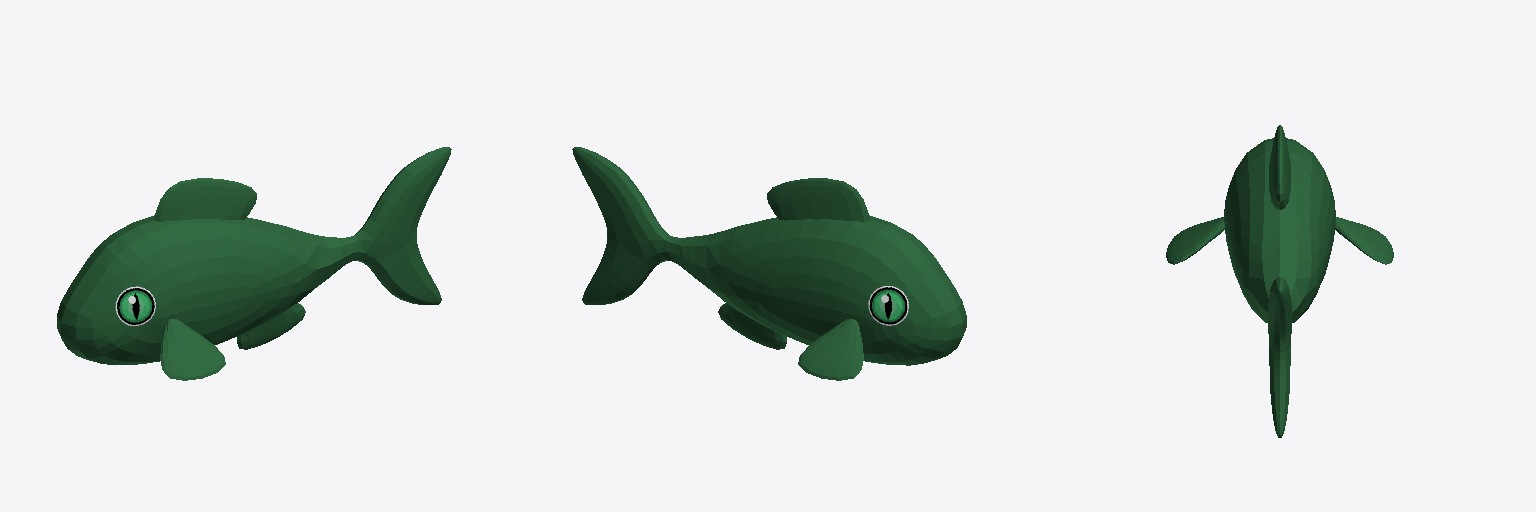
3 views of the same model, side by side, from view 1: azimuth 30°, elevation 25°; view 2: azimuth 150°, elevation 25°; view 3: azimuth 270°, elevation 25° (orthographic).
Visible parts, largest first — view 1: obj1; view 2: obj1; view 3: obj1.
Part boxes in pixels (x1,y1,x2,y2): obj1: (57, 147, 451, 380); obj1: (572, 147, 966, 380); obj1: (1166, 125, 1393, 437).
Bounding box in the file's own units: 1.34 × 0.6092 × 0.6772.
1 materials, 1 textured.